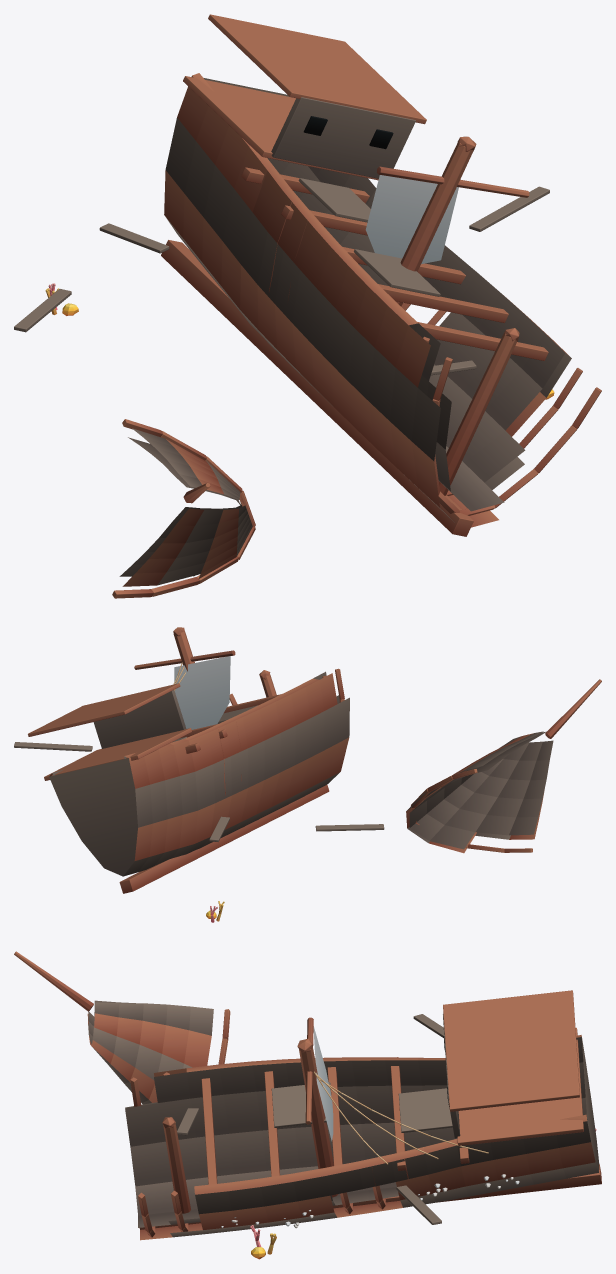
Rendered from shipwreck.glb.
3 views of the same model, one above another, from view 1: azimuth 30°, elevation 25°; view 2: azimuth 150°, elevation 25°; view 3: azimuth 270°, elevation 25° (orthographic). The views are drawn at different scales.
Visible parts, largest first — view 1: shipwreck; view 2: shipwreck; view 3: shipwreck.
Boxes of the visible parts, x1,y1,x2,y2 form: shipwreck: [14, 14, 601, 598]; shipwreck: [14, 627, 601, 922]; shipwreck: [14, 951, 601, 1259].
Size of the model in its own units: 13.13 by 6.76 by 13.92.
Materials: 1 (1 with a texture image).
